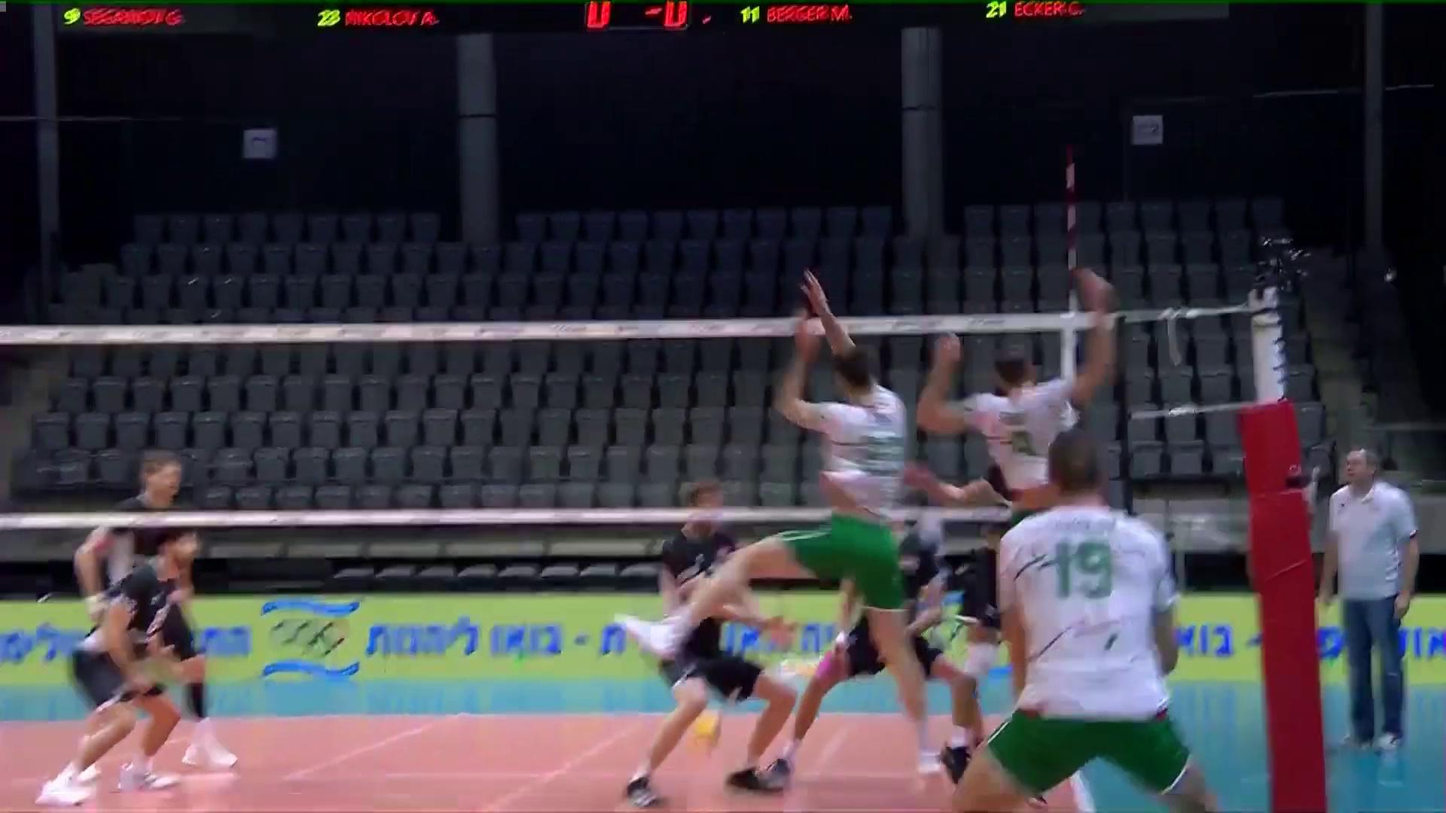ball: (688, 704, 723, 758)
